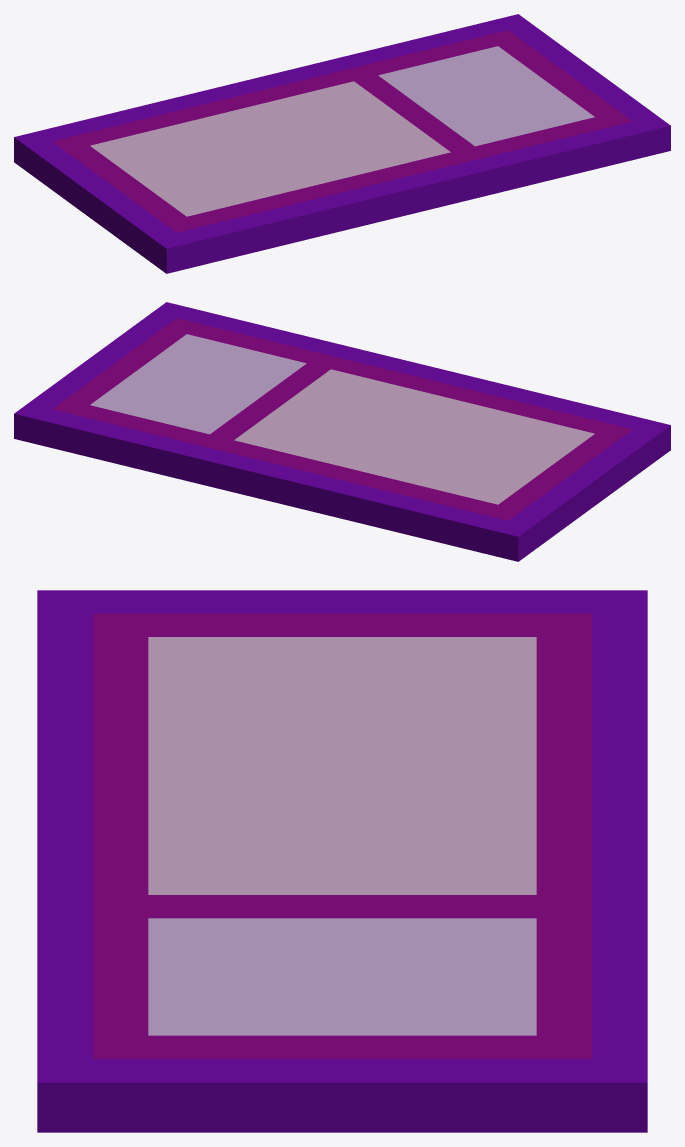
Rendered from Card00.gltf.
3 views of the same model, one above another, from view 1: azimuth 30°, elevation 25°; view 2: azimuth 150°, elevation 25°; view 3: azimuth 270°, elevation 25° (orthographic). The views are drawn at different scales.
Bounding box in the file's own units: 21 × 1 × 11.
